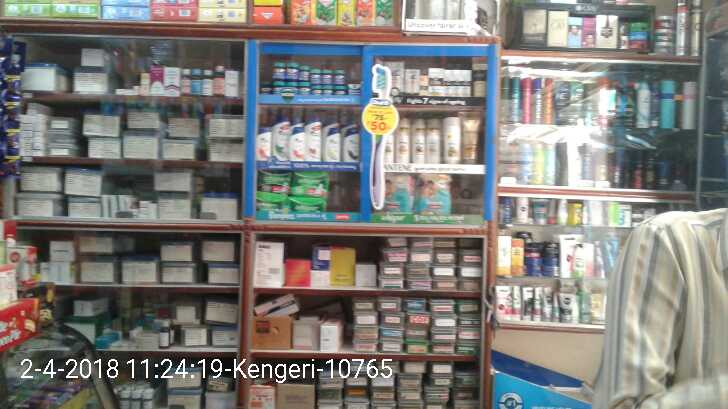vicks: (260, 59, 347, 94), (347, 83, 360, 94)
